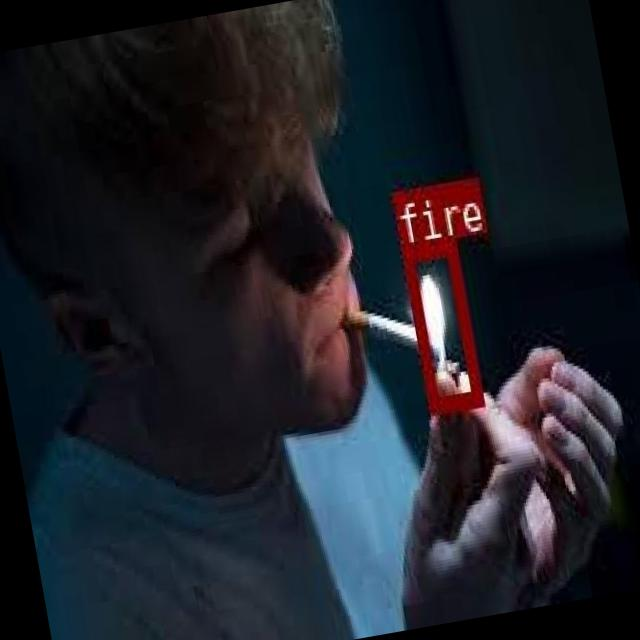fire: (399, 234, 482, 412)
